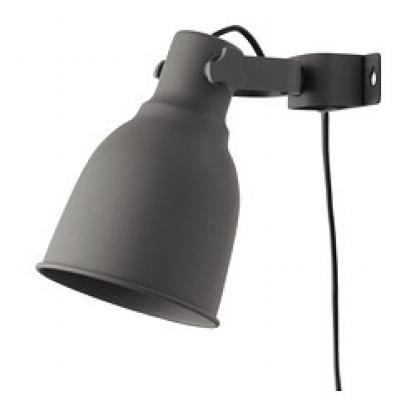Lamp: (32, 7, 388, 404)
